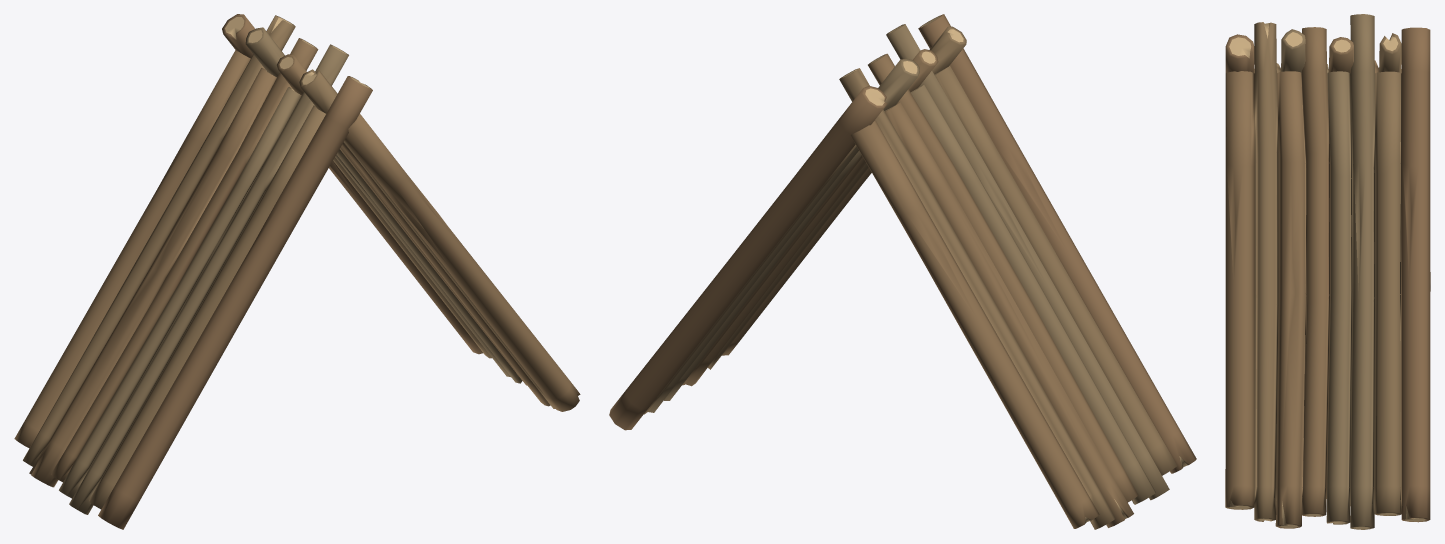
The model's file is rpgpp_ag_roof_01a_6x5x3.fbx.
The picture shows the model from 3 angles, left to right: view 1: azimuth 30°, elevation 25°; view 2: azimuth 150°, elevation 25°; view 3: azimuth 270°, elevation 25°; orthographic projection. The views are drawn at different scales.
Parts seen in each view (by area): view 1: rpgpp_ag_roof_01a_6x5x3; view 2: rpgpp_ag_roof_01a_6x5x3; view 3: rpgpp_ag_roof_01a_6x5x3.
Part boxes in pixels (x1,y1,x2,y2): rpgpp_ag_roof_01a_6x5x3: (14, 14, 580, 529); rpgpp_ag_roof_01a_6x5x3: (609, 14, 1196, 529); rpgpp_ag_roof_01a_6x5x3: (1225, 14, 1430, 529).
Bounding box in the file's own units: 8.12 × 6.46 × 3.
